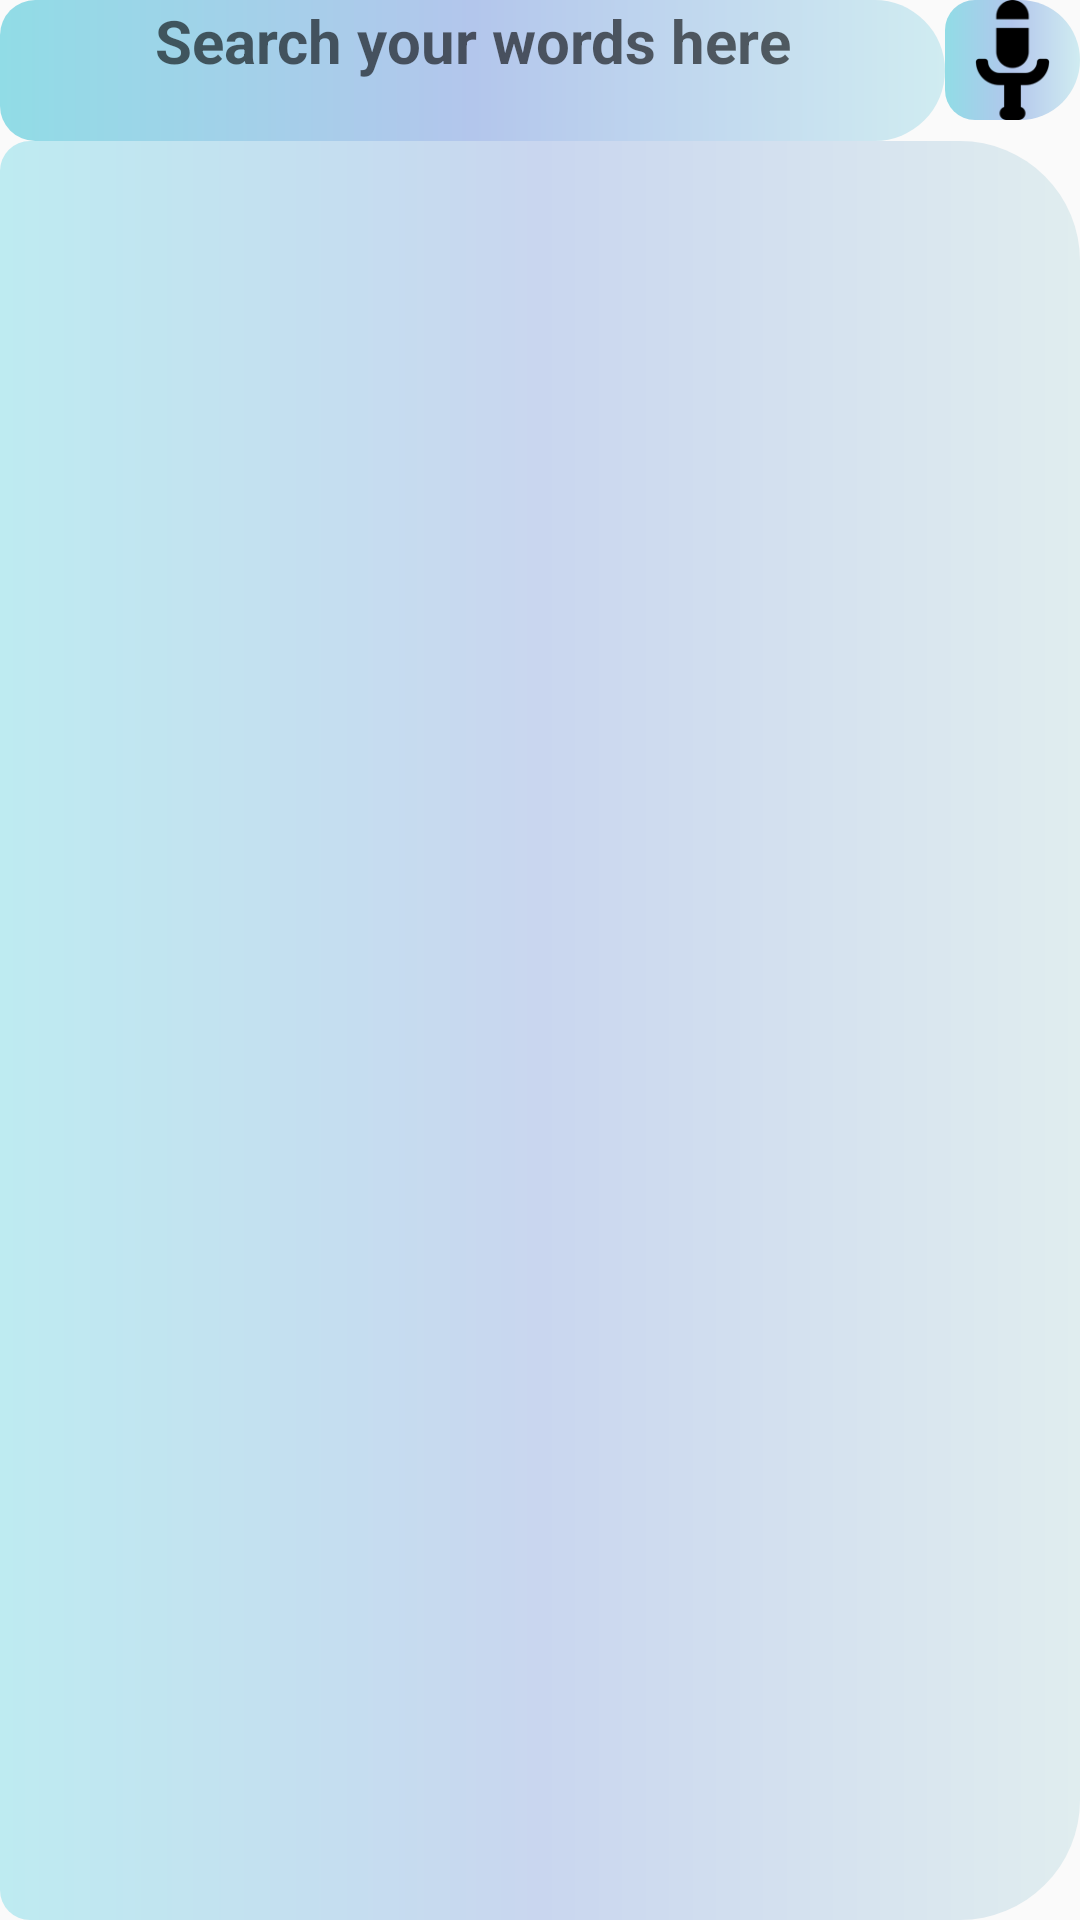

Screen size 1080px x 1920px. Icon name, then its box in pixels as (x1, y1, x2, y2):
mic: (945, 0, 1080, 120)
